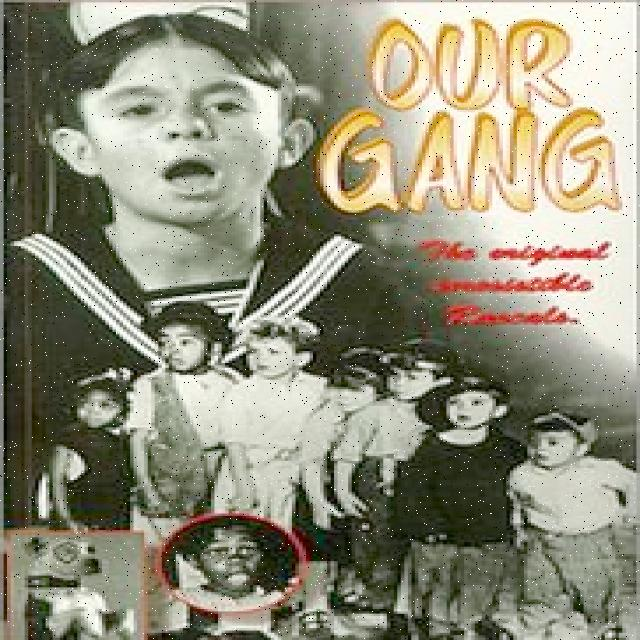movie-judul: (311, 22, 640, 234)
picture: (39, 301, 616, 625), (23, 5, 322, 254)
